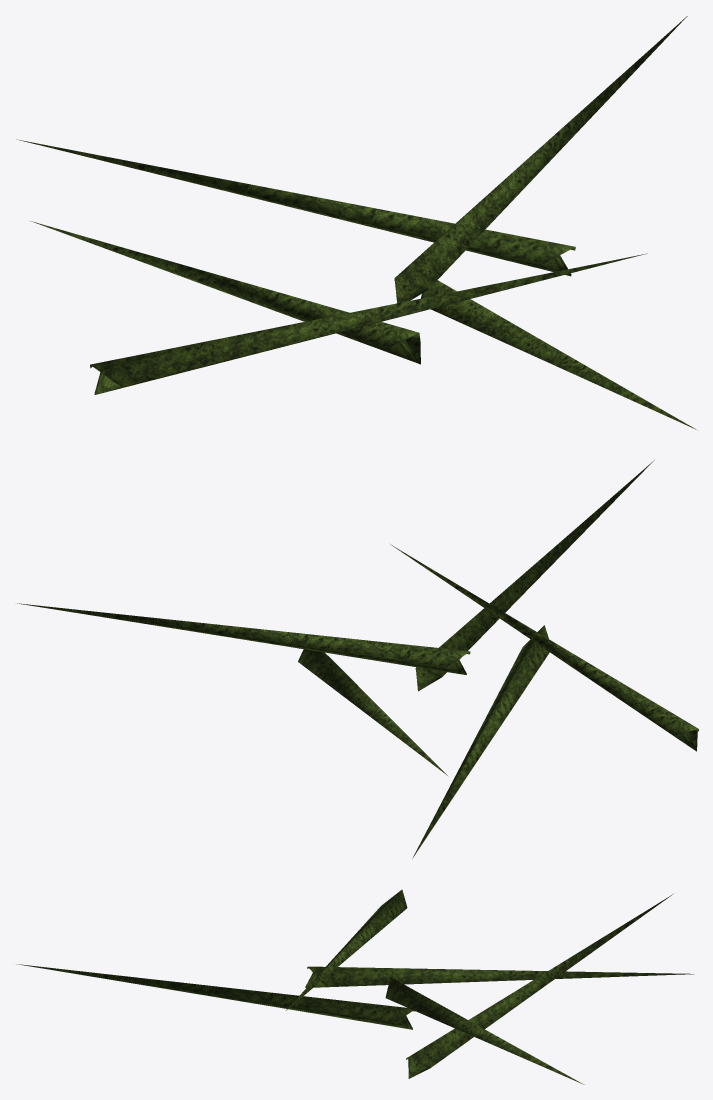
Rendered from needlev3.dae.
The picture shows the model from 3 angles, top to bottom: view 1: azimuth 30°, elevation 25°; view 2: azimuth 150°, elevation 25°; view 3: azimuth 270°, elevation 25°; orthographic projection. The views are drawn at different scales.
Visible parts, largest first — view 1: Plane_001; view 2: Plane_001; view 3: Plane_001.
Part boxes in pixels (x1=…): Plane_001: x1=16, y1=16, x2=696, y2=429; Plane_001: x1=17, y1=460, x2=698, y2=858; Plane_001: x1=16, y1=889, x2=693, y2=1084.
Size of the model in its own units: 0.1605 by 0.186 by 0.026.
1 material, 1 textured.
